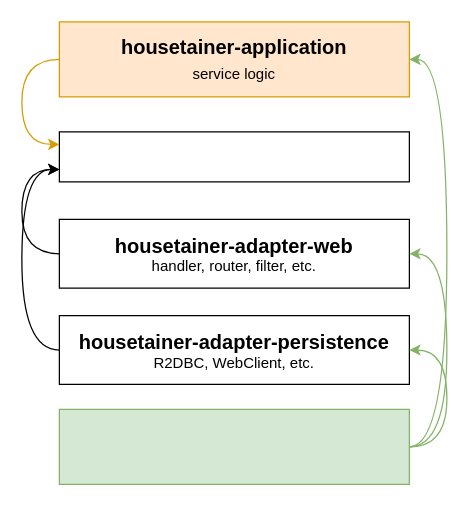
The diagram is 469 pixels wide and 506 high, and some of its shapes have lost their labels. Here are the shapes that lost their labels. From the top down, the centre of each, then its label:
At point 233,156: "housetainer-domain".
At point 233,446: "housetainer-web Spring boot application + Bean factory".
